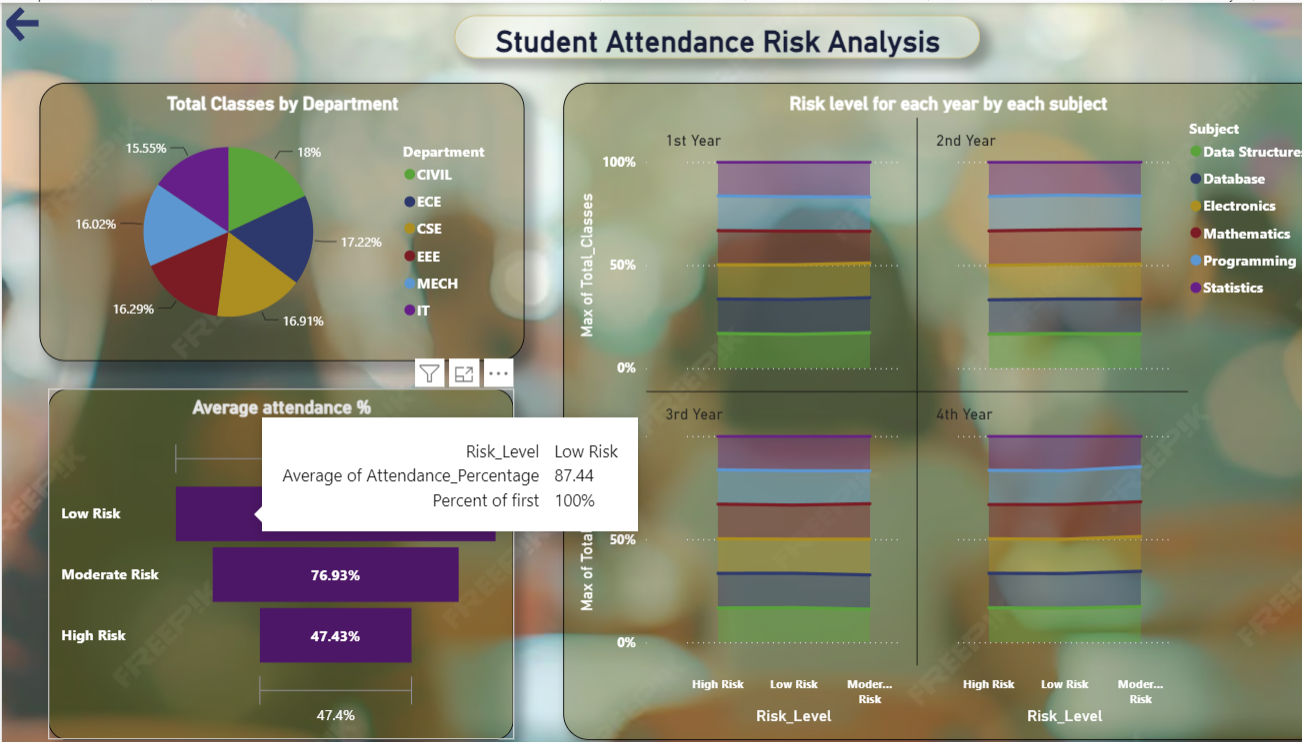

Layout of this report page (visuals, bound fields, positions):
{"tool":"powerbi","page":{"name":"Page 2","canvas":[1280,720],"ordinal":1},"visuals":[{"type":"hundredPercentStackedAreaChart","title":"Risk level for each year by each subject","fields":{"Category":["Sheet1.Risk_Level"],"Y":["Max(Sheet1.Total_Classes)"],"Series":["Sheet1.Subject"],"Rows":["Sheet1.Year"]},"box":[522.4,74.8,715.4,611.7],"z":0},{"type":"pieChart","title":"Total Classes by Department","fields":{"Y":["Sum(Sheet1.Total_Classes)"],"Category":["Sheet1.Department"]},"box":[35,74.8,451.2,259.4],"z":1000},{"type":"funnel","title":"Average attendance %","fields":{"Category":["Sheet1.Risk_Level"],"Y":["Avg(Sheet1.Attendance_Percentage)"]},"box":[43.4,359.5,433.1,326.9],"z":2000},{"type":"textbox","title":"Student Attendance Risk Analysis ","box":[421,12.1,488.6,39.8],"z":3000},{"type":"actionButton","box":[0,0,100,40],"z":4000}]}

Visuals, with their boxes in screenshot pixels (x1, y1, x2, y2), scaled from the page's 1280x720 canvas onto the 1302x742 screenshot:
"Risk level for each year by each subject" hundredPercentStackedAreaChart: [531, 77, 1259, 707]
"Total Classes by Department" pieChart: [36, 77, 495, 344]
"Average attendance %" funnel: [44, 370, 485, 707]
"Student Attendance Risk Analysis " textbox: [428, 12, 925, 53]
actionButton: [0, 0, 102, 41]
